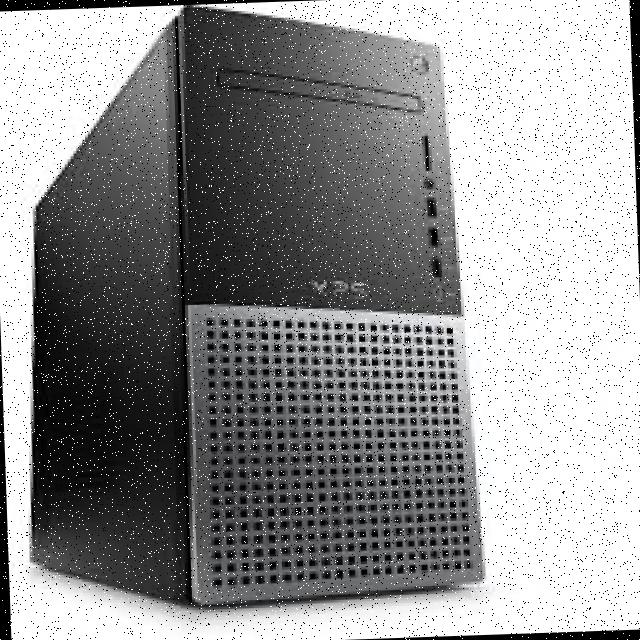Computer: (10, 0, 517, 629)
